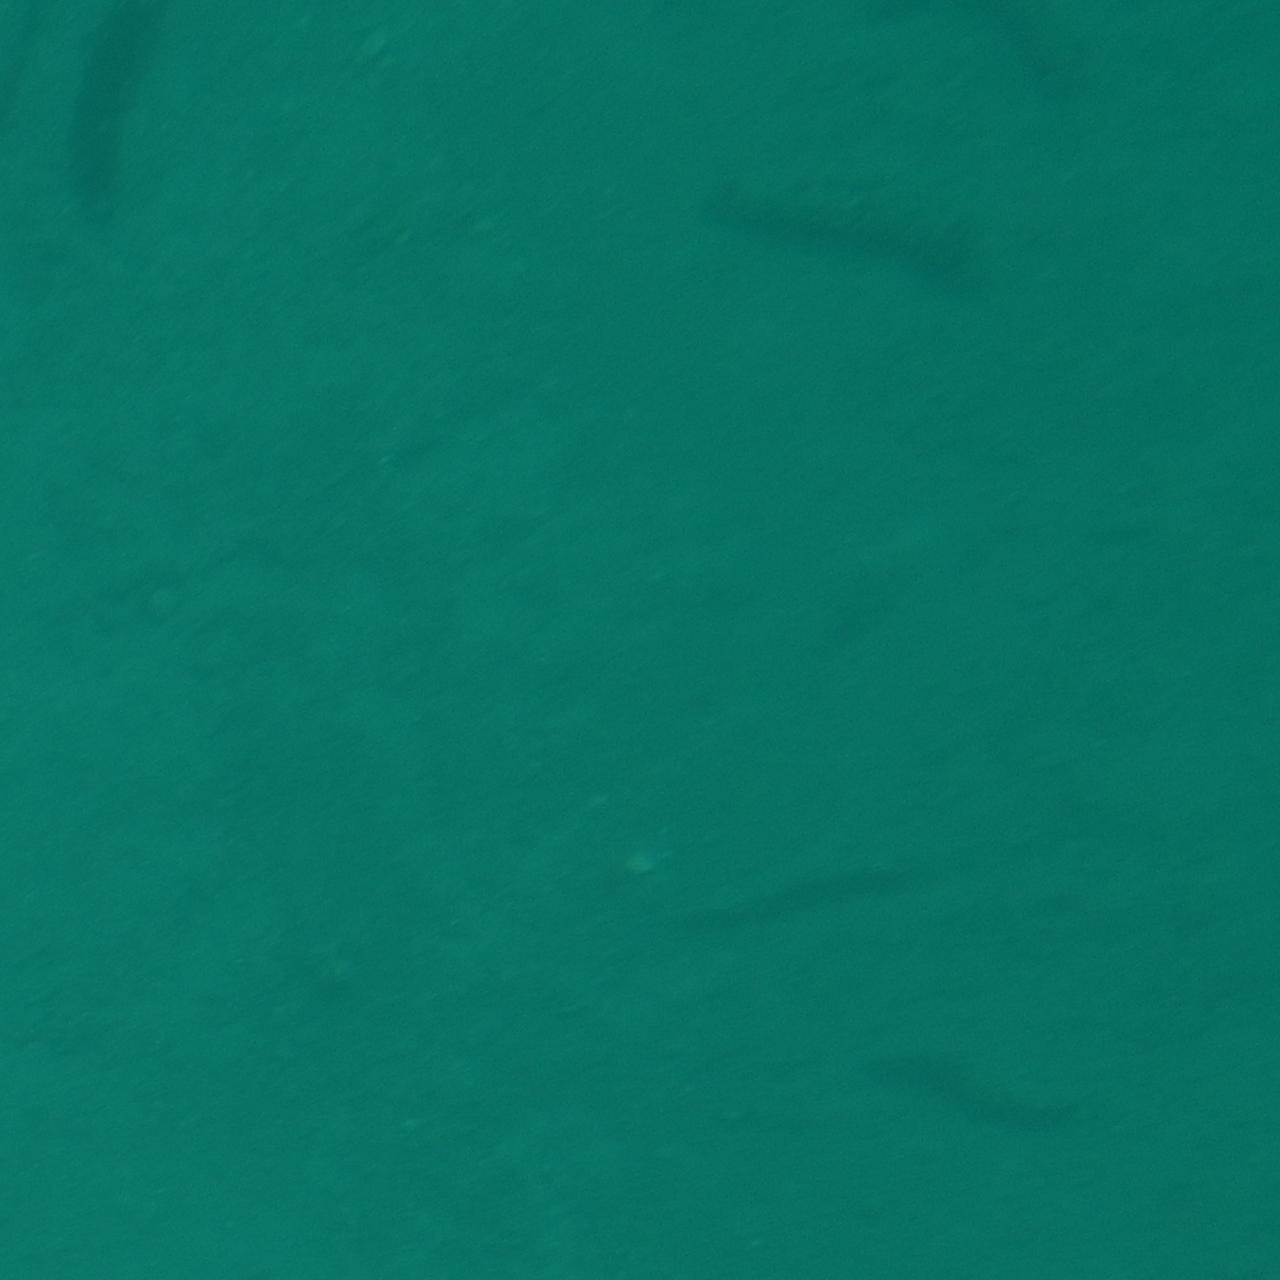Holothuria tubulosa: (675, 125, 1005, 263), (831, 1021, 1095, 1153)
